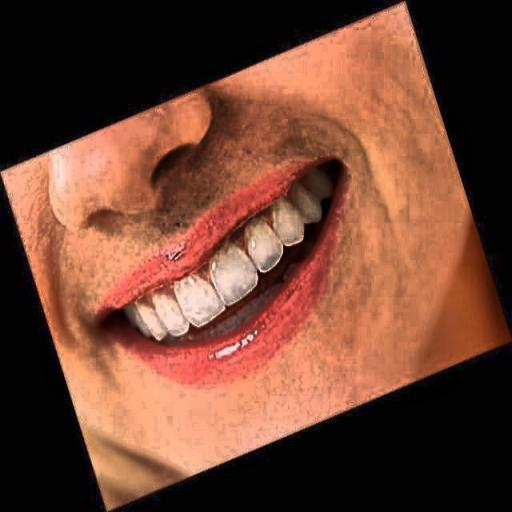Healthy: (68, 153, 395, 374)
